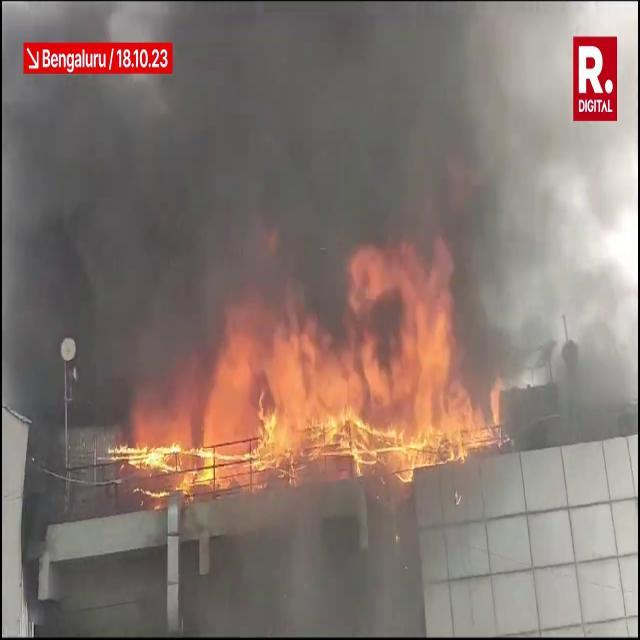Fire: (121, 242, 497, 490)
Smoke: (5, 2, 558, 384)
